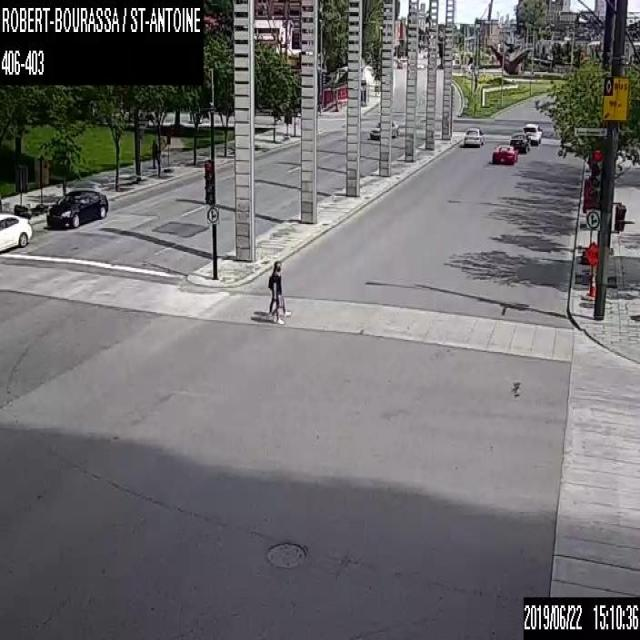construction: (583, 240, 597, 306), (586, 272, 596, 296)
pedestrian: (266, 259, 290, 315), (272, 266, 284, 323), (149, 138, 159, 170)
vehicle: (45, 187, 108, 229), (0, 209, 33, 255), (369, 120, 400, 138), (492, 143, 517, 164), (509, 131, 530, 153), (522, 122, 541, 145), (464, 126, 484, 146)
